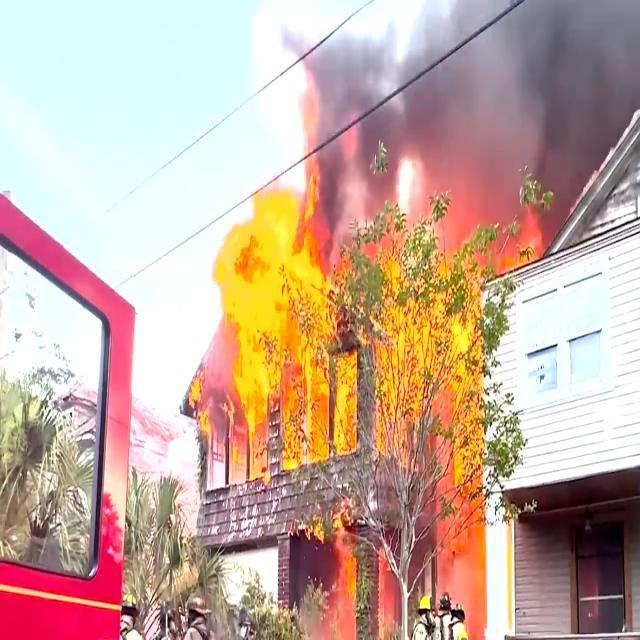Fire: (374, 256, 484, 598), (230, 202, 350, 450)
Smoke: (282, 0, 634, 133), (326, 124, 564, 213)
